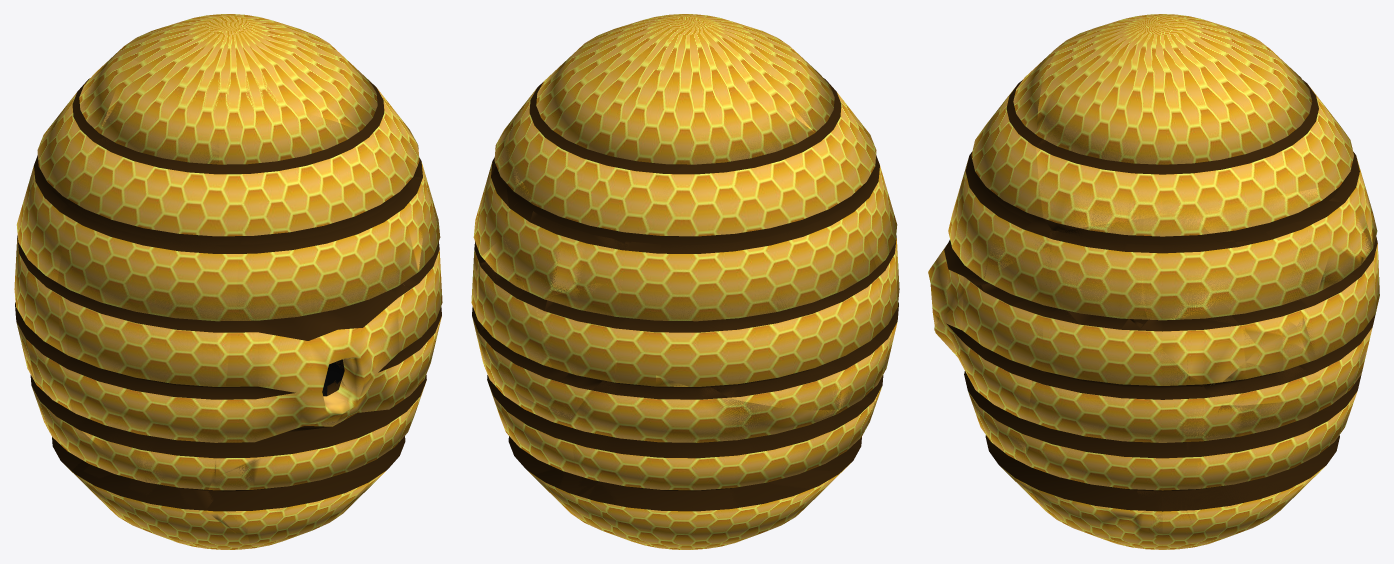
Rendered from HiveExplode.fbx.
The picture shows the model from 3 angles, left to right: view 1: azimuth 30°, elevation 25°; view 2: azimuth 150°, elevation 25°; view 3: azimuth 270°, elevation 25°; orthographic projection.
Visible parts, largest first — view 1: Sphere, Sphere_cell, Sphere_cell.001, Sphere_cell.007, Sphere_cell.002, Sphere_cell.004, Sphere_cell.009; view 2: Sphere, Sphere_cell.009, Sphere_cell.007, Sphere_cell.006, Sphere_cell.005_cell.005, Sphere_cell, Sphere_cell.005_cell.007, Sphere_cell.005_cell.006, Sphere_cell.004; view 3: Sphere, Sphere_cell.004, Sphere_cell.006, Sphere_cell.008, Sphere_cell.001, Sphere_cell.002, Sphere_cell.005_cell.005, Sphere_cell.003_cell.007, Sphere_cell.005_cell.001, Sphere_cell.003_cell.003, Sphere_cell.005_cell, Sphere_cell.005_cell.002 (+4 smaller).
Part boxes in pixels (x1,y1,x2,y2): Sphere: (14, 14, 442, 549); Sphere_cell: (59, 75, 252, 489); Sphere_cell.001: (214, 115, 424, 477); Sphere_cell.007: (15, 55, 146, 411); Sphere_cell.002: (206, 189, 439, 543); Sphere_cell.004: (181, 20, 419, 176); Sphere_cell.009: (24, 354, 277, 547); Sphere: (471, 15, 898, 548); Sphere_cell.009: (570, 359, 875, 549); Sphere_cell.007: (619, 75, 882, 409); Sphere_cell.006: (477, 337, 602, 530); Sphere_cell.005_cell.005: (476, 237, 573, 418); Sphere_cell: (760, 33, 899, 402); Sphere_cell.005_cell.007: (535, 283, 625, 390); Sphere_cell.005_cell.006: (504, 208, 610, 297); Sphere_cell.004: (529, 14, 765, 244); Sphere: (930, 14, 1375, 549); Sphere_cell.004: (1036, 18, 1305, 231); Sphere_cell.006: (1092, 364, 1363, 549); Sphere_cell.008: (1036, 290, 1214, 535); Sphere_cell.001: (928, 95, 1050, 324); Sphere_cell.002: (934, 248, 1058, 512); Sphere_cell.005_cell.005: (1297, 245, 1376, 394); Sphere_cell.003_cell.007: (1141, 211, 1238, 320); Sphere_cell.005_cell.001: (1183, 299, 1257, 386); Sphere_cell.003_cell.003: (1048, 220, 1143, 318); Sphere_cell.005_cell: (1221, 235, 1331, 348); Sphere_cell.005_cell.002: (1204, 326, 1309, 405).
Bounding box in the file's own units: 426 × 557 × 450.
